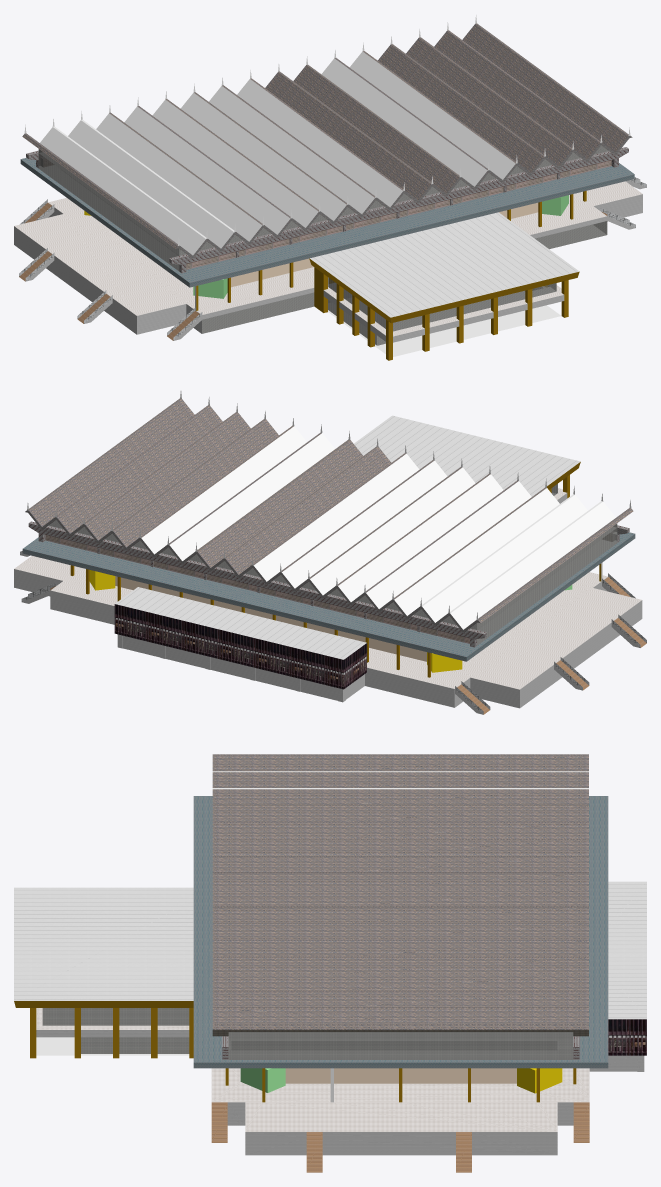
File: istora_senayan_jakarta.glb
The picture shows the model from 3 angles, top to bottom: view 1: azimuth 30°, elevation 25°; view 2: azimuth 150°, elevation 25°; view 3: azimuth 270°, elevation 25°; orthographic projection. The views are drawn at different scales.
Parts seen in each view (by area): view 1: Object_21, Object_13, Object_16, Object_15, Object_10, Object_14, Object_19, Object_5, Object_9, Object_11, Object_2, Object_17 (+4 smaller); view 2: Object_21, Object_13, Object_16, Object_15, Object_19, Object_10, Object_12, Object_9, Object_14, Object_11, Object_4, Object_2 (+5 smaller); view 3: Object_13, Object_16, Object_15, Object_10, Object_14, Object_21, Object_19, Object_5, Object_4, Object_17, Object_18, Object_12 (+3 smaller).
Boxes of the visible parts, box(x1,y1,x2,y2) form: Object_21: box(24, 15, 630, 356); Object_13: box(22, 23, 628, 248); Object_16: box(310, 212, 579, 317); Object_15: box(14, 181, 642, 336); Object_10: box(20, 158, 634, 287); Object_14: box(38, 145, 608, 345); Object_19: box(14, 180, 646, 342); Object_5: box(196, 191, 586, 360); Object_9: box(26, 147, 628, 273); Object_11: box(44, 159, 611, 269); Object_2: box(176, 135, 632, 258); Object_17: box(40, 146, 607, 255); Object_21: box(27, 391, 631, 644); Object_13: box(28, 398, 633, 622); Object_16: box(115, 415, 580, 659); Object_15: box(14, 488, 641, 689); Object_19: box(14, 492, 642, 714); Object_10: box(22, 532, 635, 661); Object_12: box(114, 604, 366, 689); Object_9: box(28, 521, 629, 647); Object_14: box(49, 484, 617, 645); Object_11: box(45, 533, 611, 643); Object_4: box(115, 576, 426, 661); Object_2: box(25, 510, 627, 632); Object_13: box(212, 754, 588, 1029); Object_16: box(14, 881, 646, 1019); Object_15: box(36, 1008, 589, 1131); Object_10: box(193, 796, 608, 1068); Object_14: box(42, 1008, 573, 1059); Object_21: box(36, 771, 588, 1102); Object_19: box(36, 1030, 644, 1155); Object_5: box(14, 1001, 576, 1102); Object_4: box(285, 1068, 516, 1083); Object_17: box(229, 1033, 572, 1040); Object_18: box(211, 1102, 589, 1172); Object_12: box(608, 1019, 646, 1055).
Bounding box in the file's own units: 125 × 21.8 × 99.23.
Materials: 20 (14 with a texture image).
